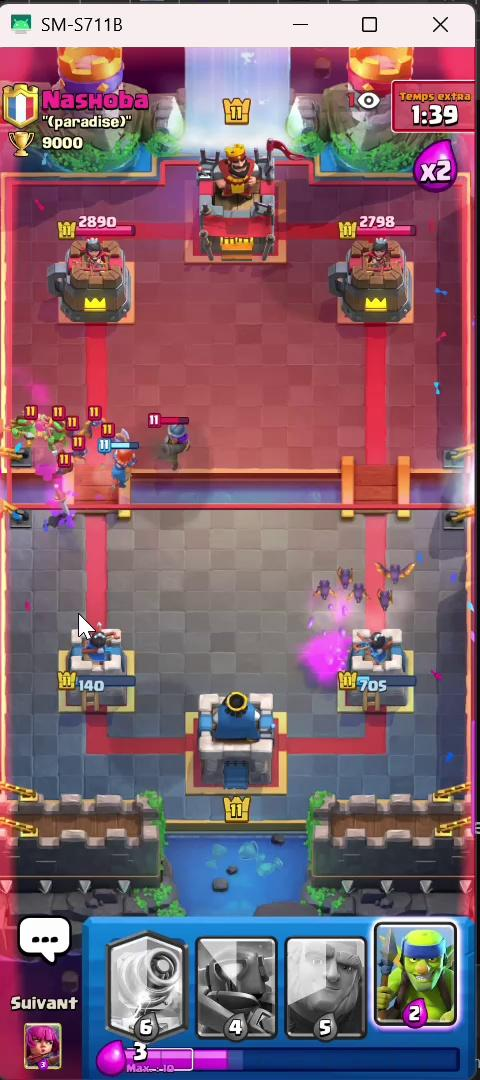bat: (40, 444, 83, 481), (369, 580, 406, 617), (63, 432, 98, 467), (329, 551, 359, 589), (386, 546, 412, 587), (340, 577, 364, 614), (312, 579, 338, 613), (58, 403, 81, 436), (90, 403, 101, 432)
gobelin_lances: (4, 413, 44, 450), (45, 407, 65, 456)
mousquetaire: (152, 416, 211, 463)
